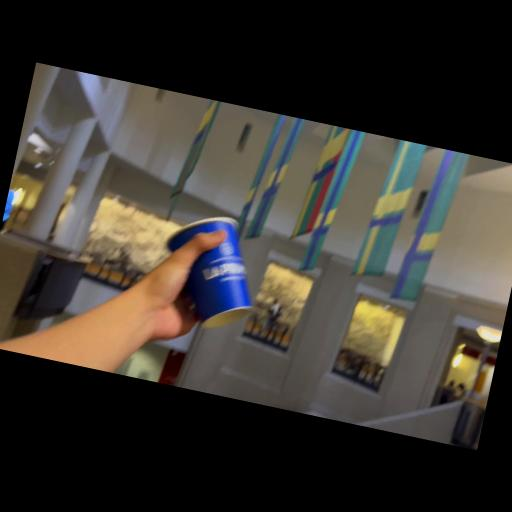lp_paper_cup: (150, 205, 268, 334)
